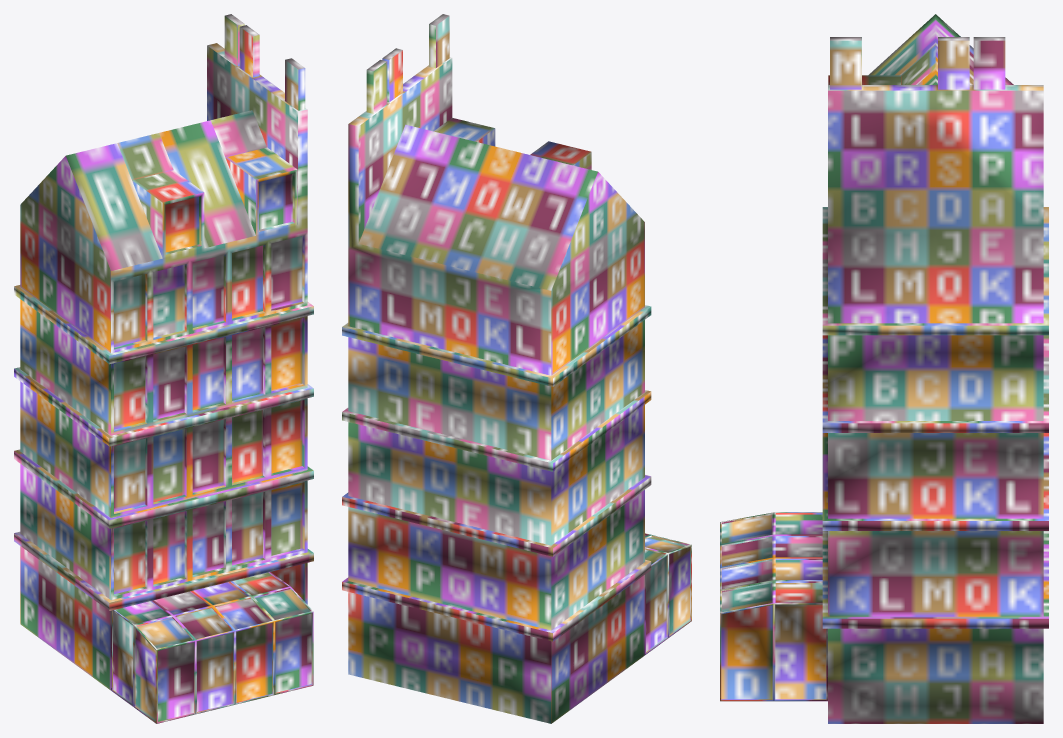
The model's file is building_side_06.obj.
3 views of the same model, side by side, from view 1: azimuth 30°, elevation 25°; view 2: azimuth 150°, elevation 25°; view 3: azimuth 270°, elevation 25° (orthographic). The views are drawn at different scales.
Parts seen in each view (by area): view 1: Cube4; view 2: Cube4; view 3: Cube4.
Part boxes in pixels (x1,y1,x2,y2): Cube4: [14, 14, 313, 723]; Cube4: [342, 14, 691, 723]; Cube4: [720, 14, 1048, 723].
Size of the model in its own units: 5.2 by 13.96 by 6.1.
1 material, 1 textured.
